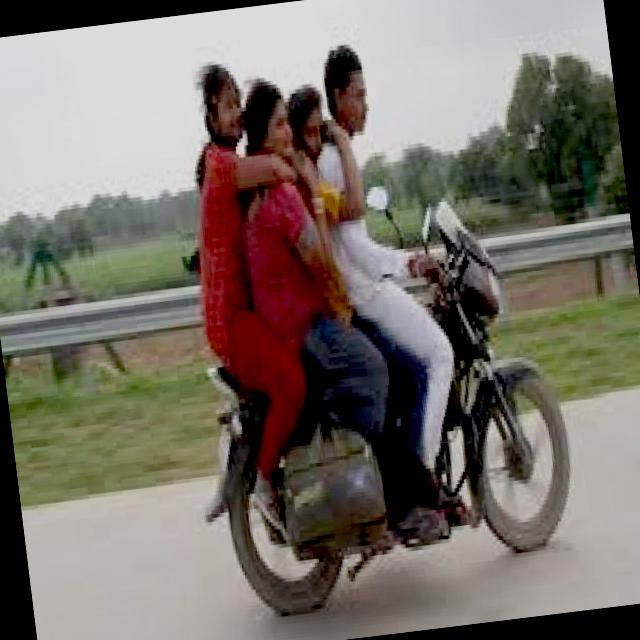motorcycle: (175, 181, 606, 628)
person: (307, 31, 481, 496), (172, 52, 310, 443), (219, 74, 345, 422), (270, 79, 365, 358)
